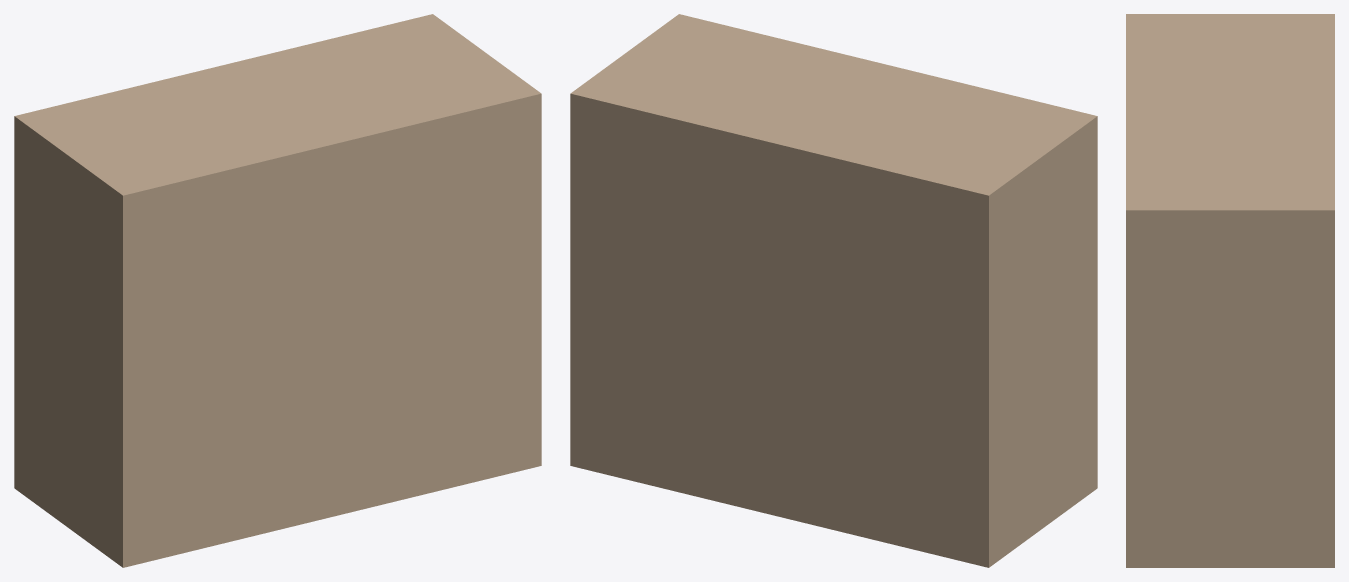
The model's file is dresser_100.glb.
3 renders of one model, left to right at view 1: azimuth 30°, elevation 25°; view 2: azimuth 150°, elevation 25°; view 3: azimuth 270°, elevation 25°, orthographic. The views are drawn at different scales.
Parts seen in each view (by area): view 1: dresser_100; view 2: dresser_100; view 3: dresser_100.
Boxes of the visible parts, left/top/right/bottom form: dresser_100: left=14, top=14, right=541, bottom=567; dresser_100: left=570, top=14, right=1097, bottom=567; dresser_100: left=1126, top=14, right=1334, bottom=567.
Size of what is drawn, in the model's own units: 1 by 0.85 by 0.45.
